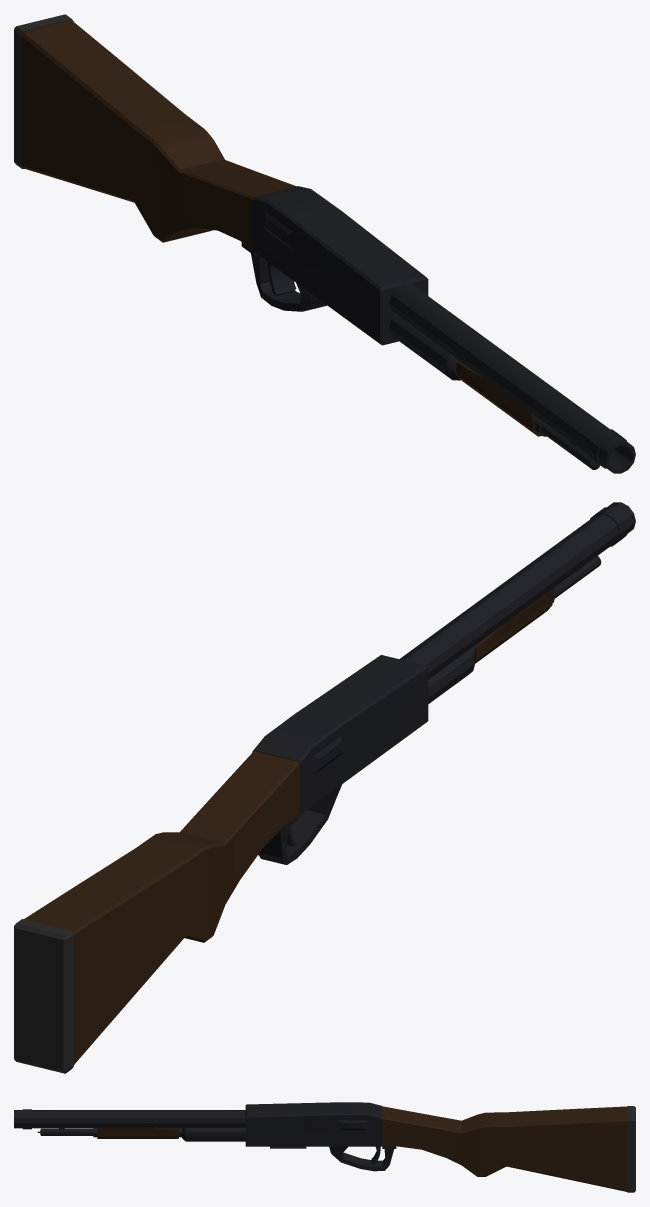
The model's file is shotgun.glb.
The picture shows the model from 3 angles, top to bottom: view 1: azimuth 30°, elevation 25°; view 2: azimuth 150°, elevation 25°; view 3: azimuth 270°, elevation 25°; orthographic projection. The views are drawn at different scales.
Parts seen in each view (by area): view 1: Plane007_1, Plane007, Plane007_2; view 2: Plane007_1, Plane007, Plane007_2; view 3: Plane007_1, Plane007, Plane007_2.
Boxes of the visible parts, x1,y1,x2,y2 form: Plane007_1: (20, 20, 541, 436); Plane007: (241, 186, 635, 473); Plane007_2: (14, 14, 73, 168); Plane007_1: (24, 587, 554, 1064); Plane007: (252, 502, 635, 864); Plane007_2: (14, 919, 73, 1073); Plane007_1: (97, 1106, 627, 1191); Plane007: (14, 1102, 396, 1171); Plane007_2: (627, 1106, 635, 1192).
Bounding box in the file's own units: 0.0554 × 0.1443 × 1.04.
